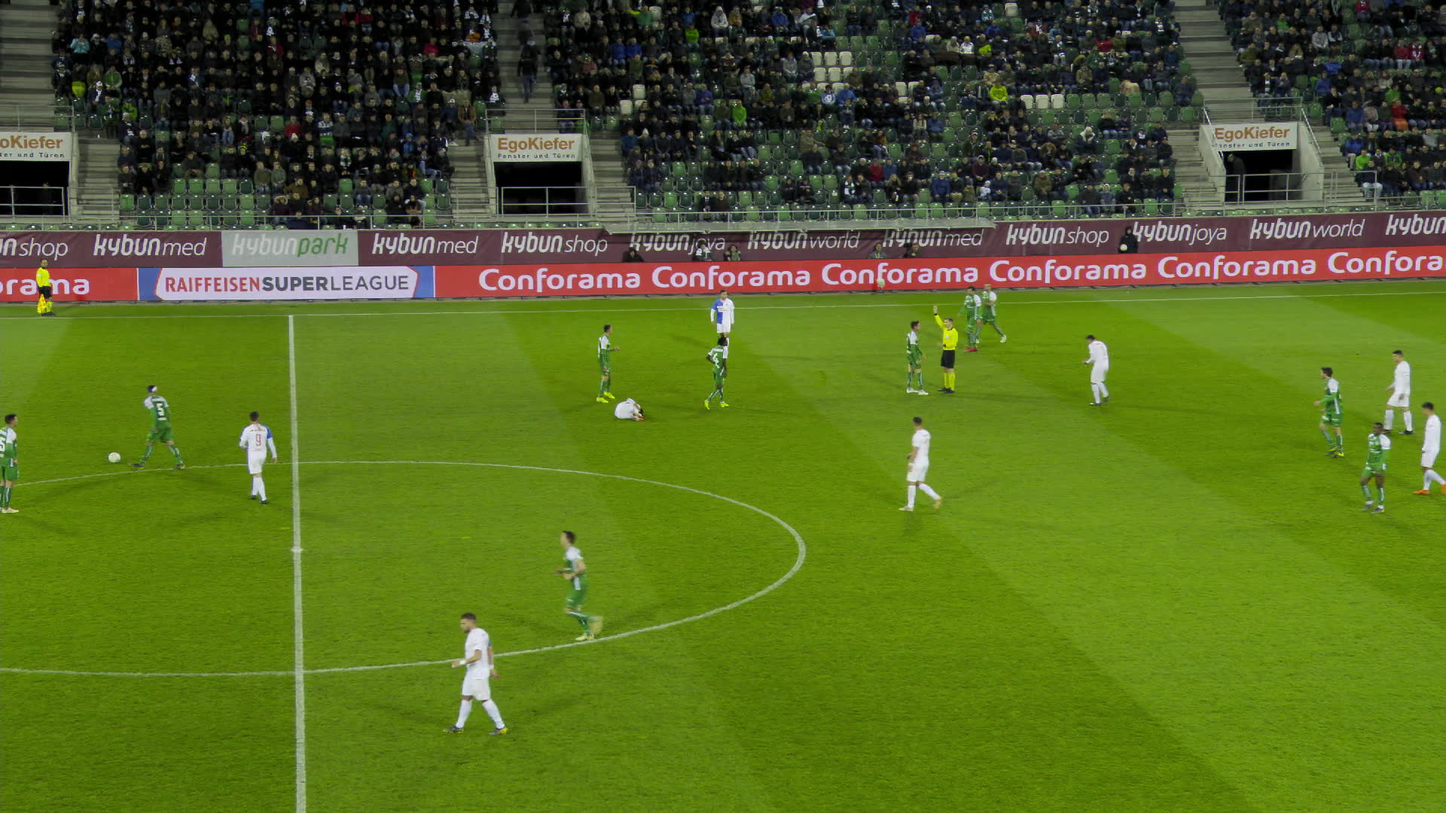ball: (110, 452, 121, 461)
player: (449, 608, 508, 738), (554, 528, 609, 641), (133, 382, 185, 470), (895, 416, 941, 513), (1350, 423, 1393, 514), (1378, 349, 1417, 438), (239, 411, 276, 504), (1314, 366, 1345, 461), (1413, 400, 1443, 497), (700, 332, 731, 410), (1081, 332, 1112, 408), (972, 280, 1007, 344), (593, 324, 620, 403), (0, 413, 20, 514), (904, 319, 927, 394), (710, 289, 735, 356), (957, 285, 982, 352), (614, 397, 644, 422)
referee: (932, 301, 958, 394), (35, 257, 56, 316)
